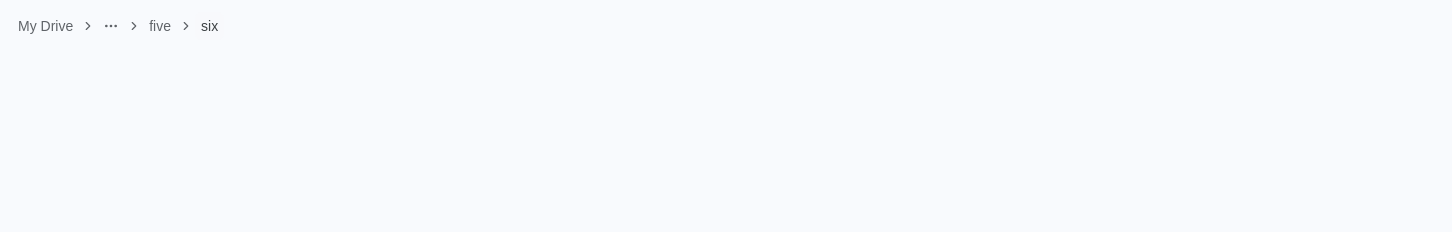
it: deep trails › closes on a click outside and on Escape
Step 1. Click the button named "Show 4 hidden folders" → (111, 26), box [97, 14, 125, 38]
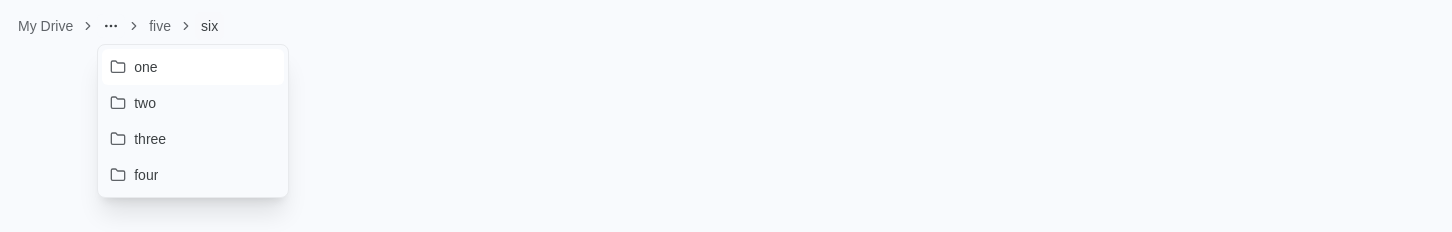
Step 2. Press the mouse on the element showing "My Drive one two three four five six" → (732, 26), box [12, 12, 1451, 40]
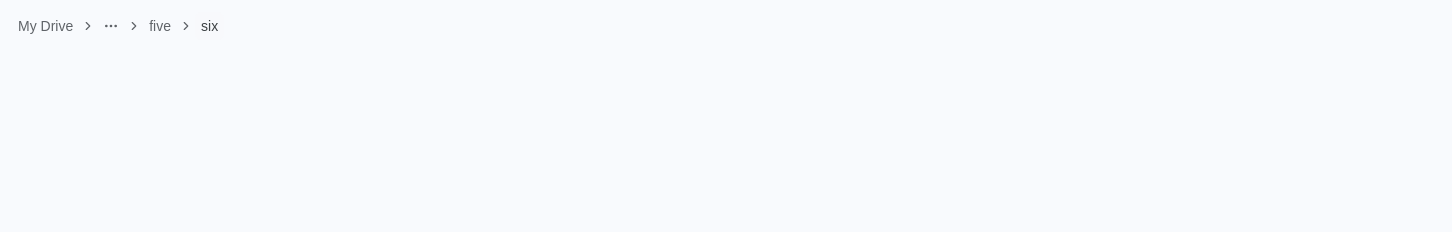
Expected: the menu is gone
Step 3. Click the button named "Show 4 hidden folders" → (111, 26), box [97, 14, 125, 38]
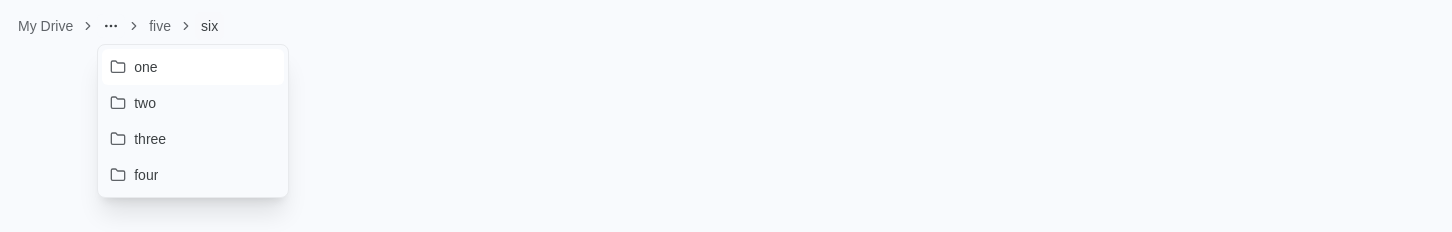
Step 4. Press Escape
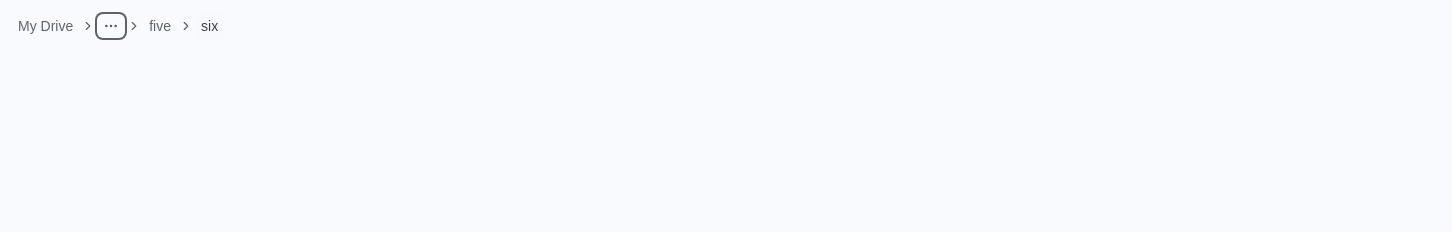
Expected: the menu is gone
